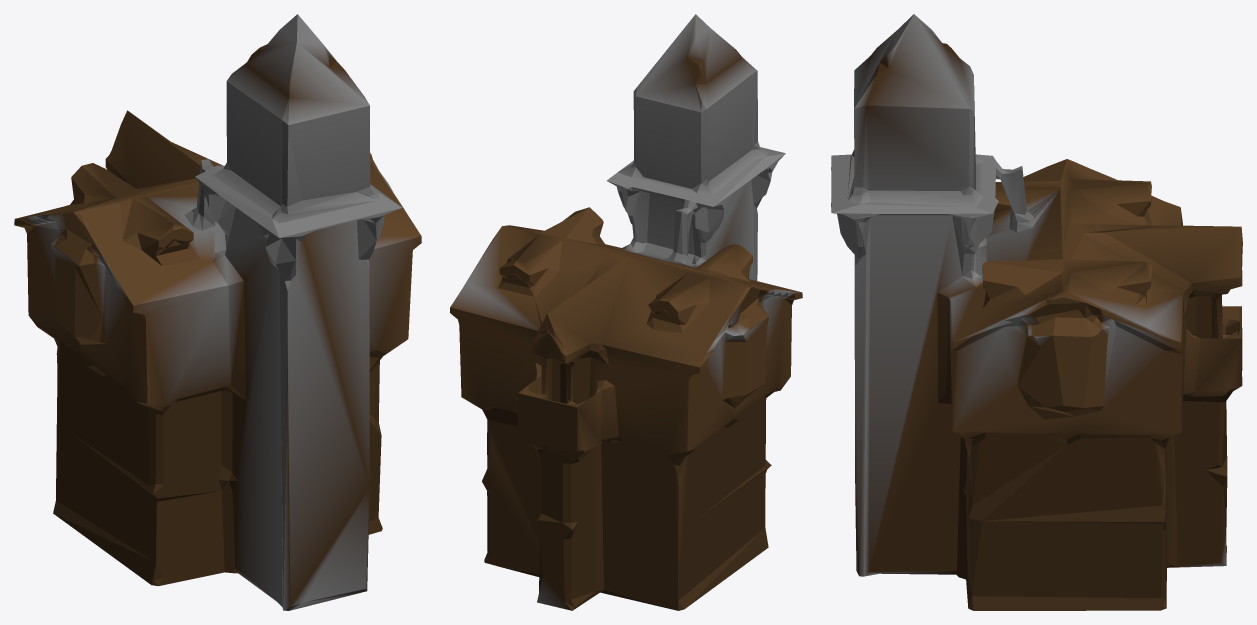
Rendered from Medieval Houses(3).glb.
The picture shows the model from 3 angles, left to right: view 1: azimuth 30°, elevation 25°; view 2: azimuth 150°, elevation 25°; view 3: azimuth 270°, elevation 25°; orthographic projection. The views are drawn at different scales.
Parts seen in each view (by area): view 1: Root; view 2: Root; view 3: Root.
Part boxes in pixels (x1,y1,x2,y2): Root: (14,14,421,610); Root: (450,14,802,610); Root: (831,14,1242,610).
Size of the model in its own units: 8.87 by 15.59 by 10.69.
